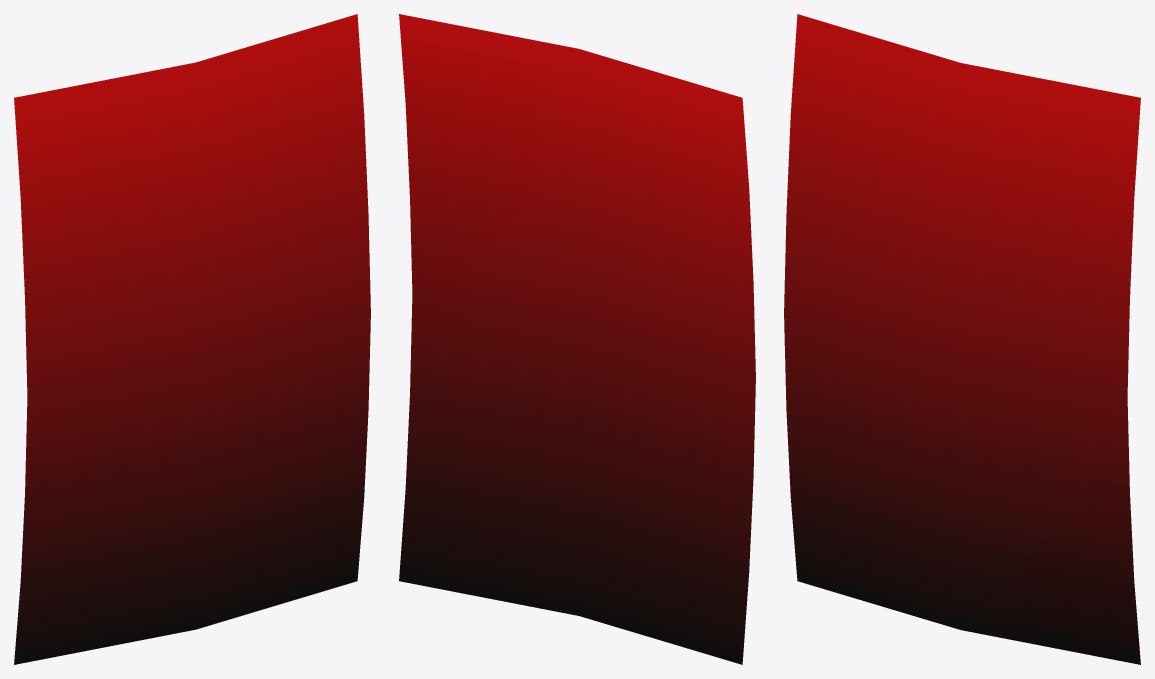
The model's file is flor3.fbx.
3 renders of one model, left to right at view 1: azimuth 30°, elevation 25°; view 2: azimuth 150°, elevation 25°; view 3: azimuth 330°, elevation 25°, orthographic.
Parts seen in each view (by area): view 1: flor3; view 2: flor3; view 3: flor3.
Part boxes in pixels (x1=…): flor3: x1=14, y1=14, x2=370, y2=664; flor3: x1=399, y1=14, x2=755, y2=664; flor3: x1=784, y1=14, x2=1140, y2=664.
Bounding box in the file's own units: 0.6912 × 1.09 × 0.079.
